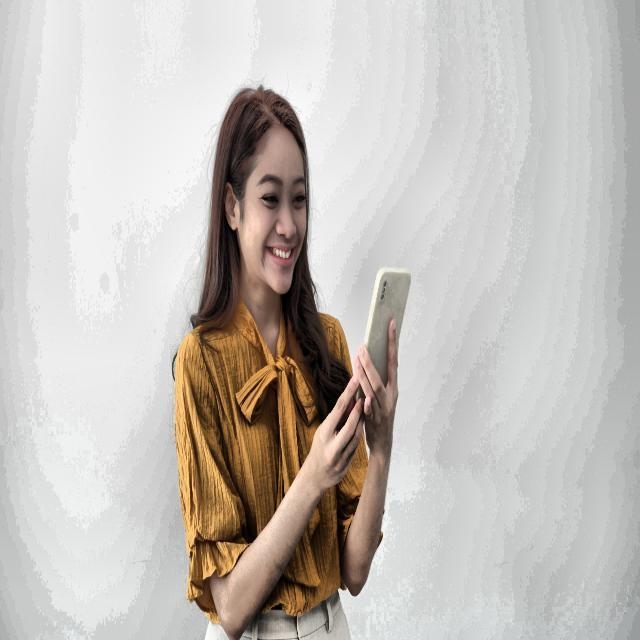Phone: (362, 268, 412, 386)
